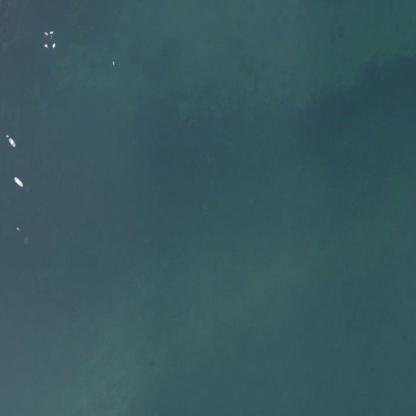ship: (11, 176, 23, 188), (7, 135, 16, 148), (7, 26, 11, 36), (0, 0, 8, 2), (10, 0, 12, 4), (16, 222, 17, 226), (0, 31, 2, 32), (111, 20, 113, 21)
